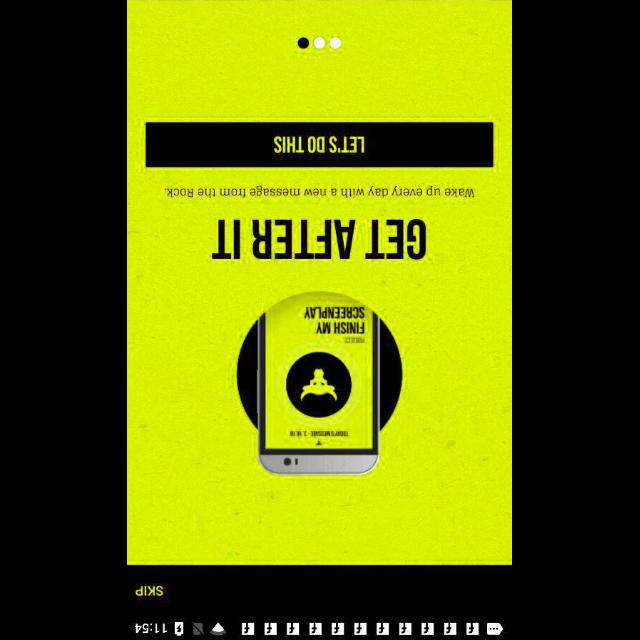image: (237, 290, 403, 476)
pageindicator: (298, 36, 342, 50)
text: (212, 218, 428, 260), (163, 186, 474, 198), (136, 584, 164, 596)
textbutton: (146, 121, 494, 167)
uppertaskbar: (128, 621, 512, 639)
